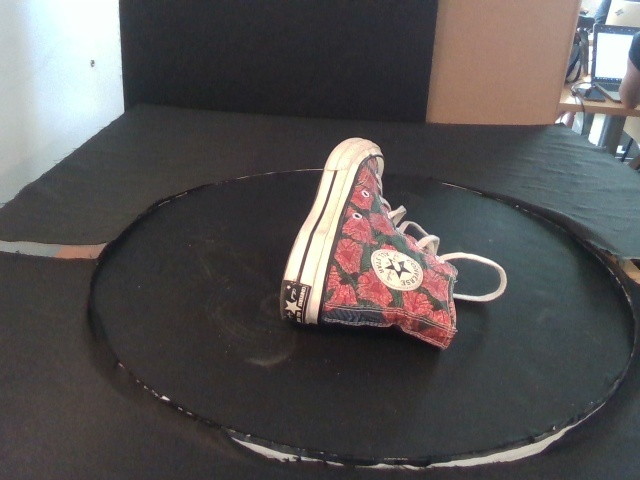shoe: (279, 137, 458, 351)
